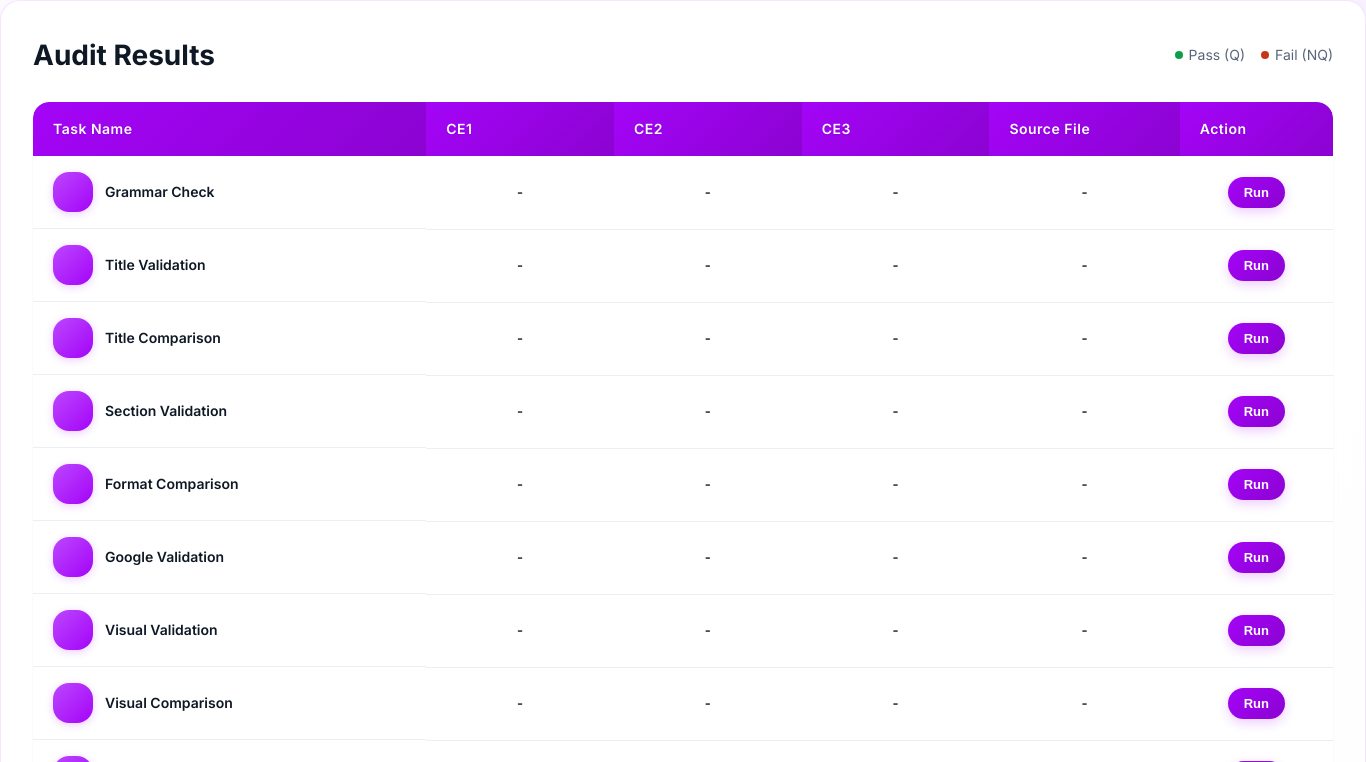
Test: Audit Flow Integration › runs validation task and updates results
Click the button "Run" in the row of "Grammar Check" at (1256, 192), box [1228,177,1285,208]
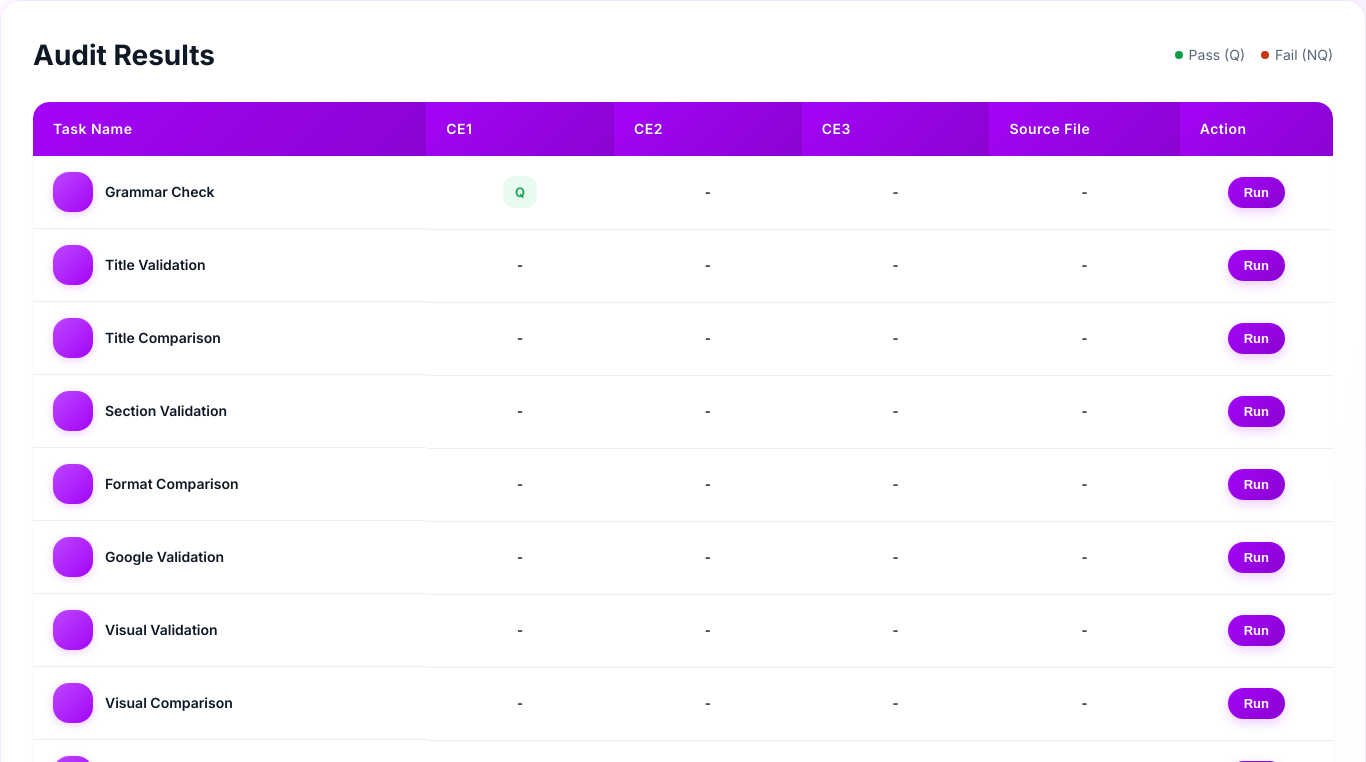
expect the text "Q" is shown: met, box [503,176,537,208]
